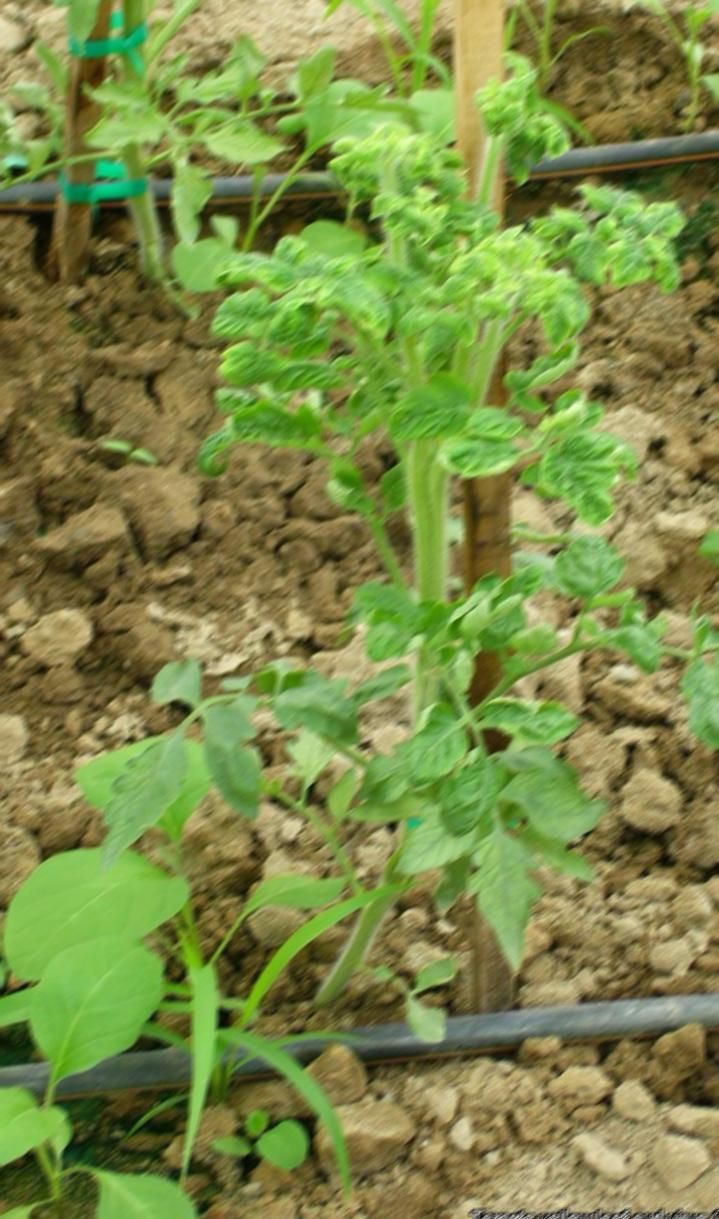Tomato leaf: (92, 736, 200, 862), (466, 804, 544, 976), (544, 434, 636, 526), (376, 374, 490, 446), (202, 698, 276, 804), (554, 530, 622, 614), (680, 654, 719, 754)
